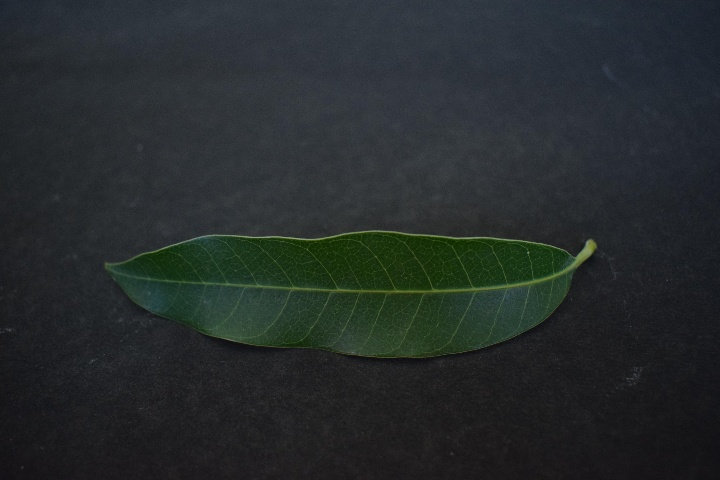healthy: (108, 234, 573, 363)
